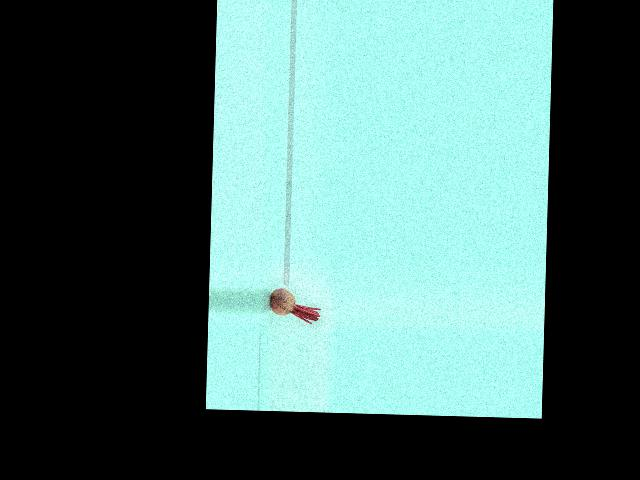beet: (269, 287, 321, 323)
